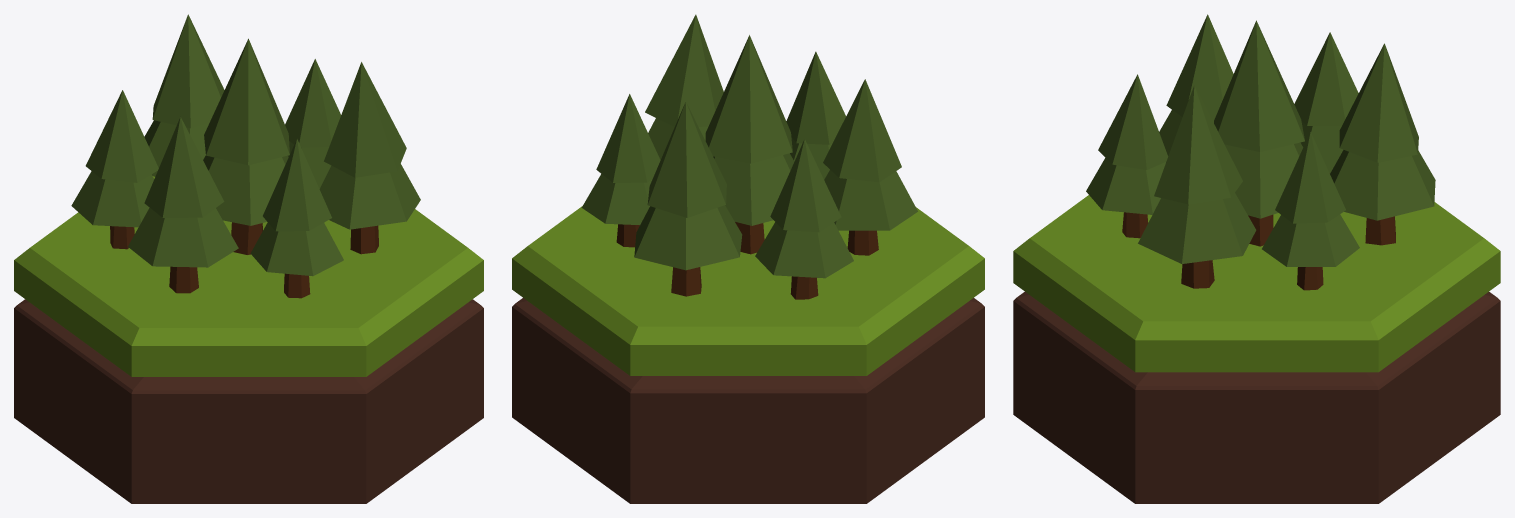
The model's file is Tile_foret.fbx.
The picture shows the model from 3 angles, left to right: view 1: azimuth 30°, elevation 25°; view 2: azimuth 150°, elevation 25°; view 3: azimuth 270°, elevation 25°; orthographic projection. The views are drawn at different scales.
Visible parts, largest first — view 1: Forêt, Cylinder.003; view 2: Forêt, Cylinder.003; view 3: Forêt, Cylinder.003.
Boxes of the visible parts, bbox=[...] form: Forêt: bbox=[14, 176, 483, 503]; Cylinder.003: bbox=[71, 14, 420, 298]; Forêt: bbox=[512, 206, 984, 503]; Cylinder.003: bbox=[581, 14, 917, 299]; Forêt: bbox=[1013, 195, 1500, 503]; Cylinder.003: bbox=[1086, 14, 1435, 290].
Bounding box in the file's own units: 173 × 179 × 200.
